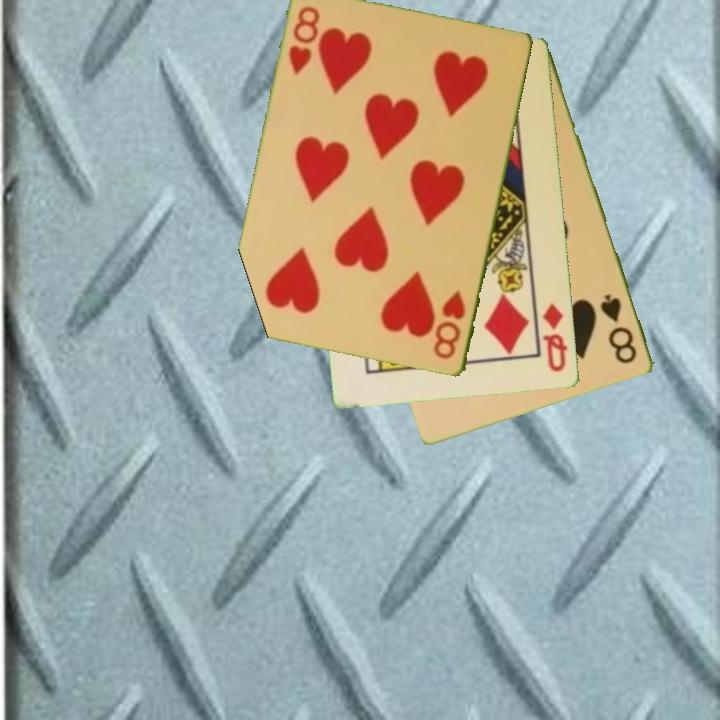8h: (430, 286, 469, 363), (285, 3, 323, 78)
8s: (597, 291, 640, 367)
Qd: (539, 300, 571, 375)
